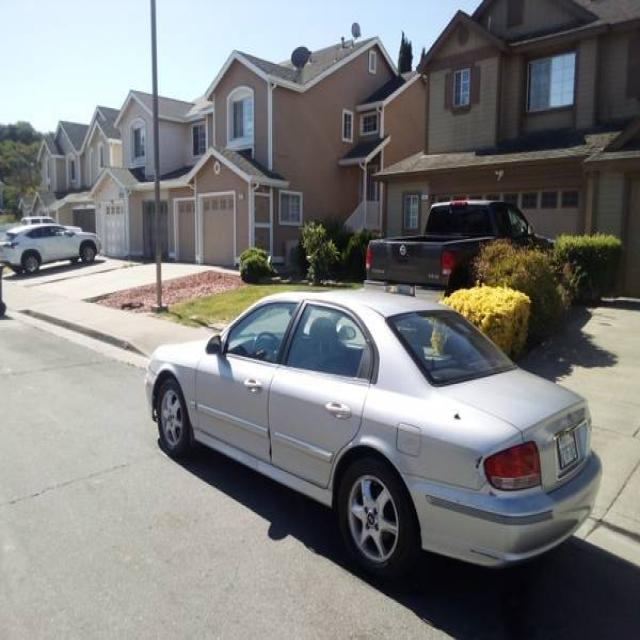scratch: (475, 455, 483, 471), (489, 490, 496, 497)
